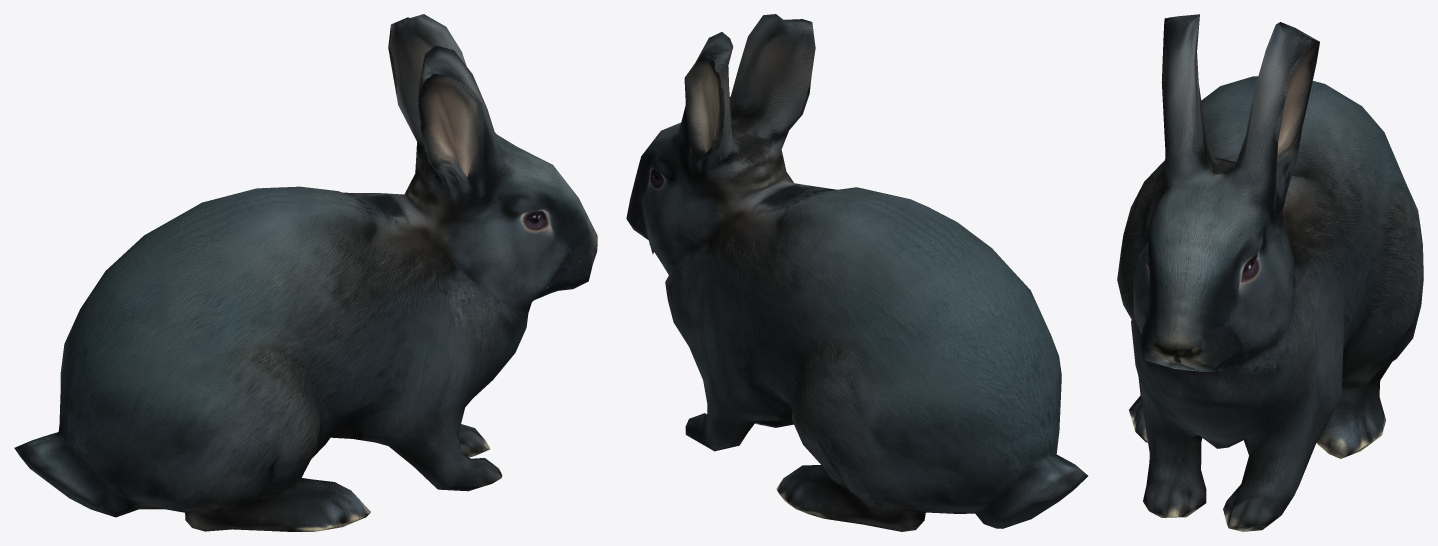
The model's file is rabbit_black_single_1500.glb.
The picture shows the model from 3 angles, left to right: view 1: azimuth 30°, elevation 25°; view 2: azimuth 150°, elevation 25°; view 3: azimuth 270°, elevation 25°; orthographic projection. The views are drawn at different scales.
Bounding box in the file's own units: 0.8607 × 0.6978 × 0.4003.
1 material, 1 textured.
